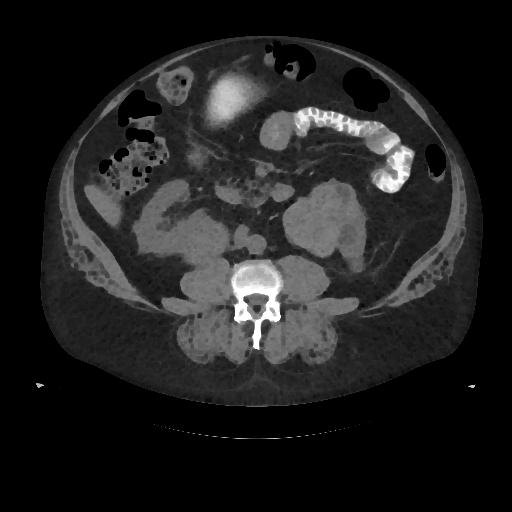Lesion: (280, 197, 343, 265)
